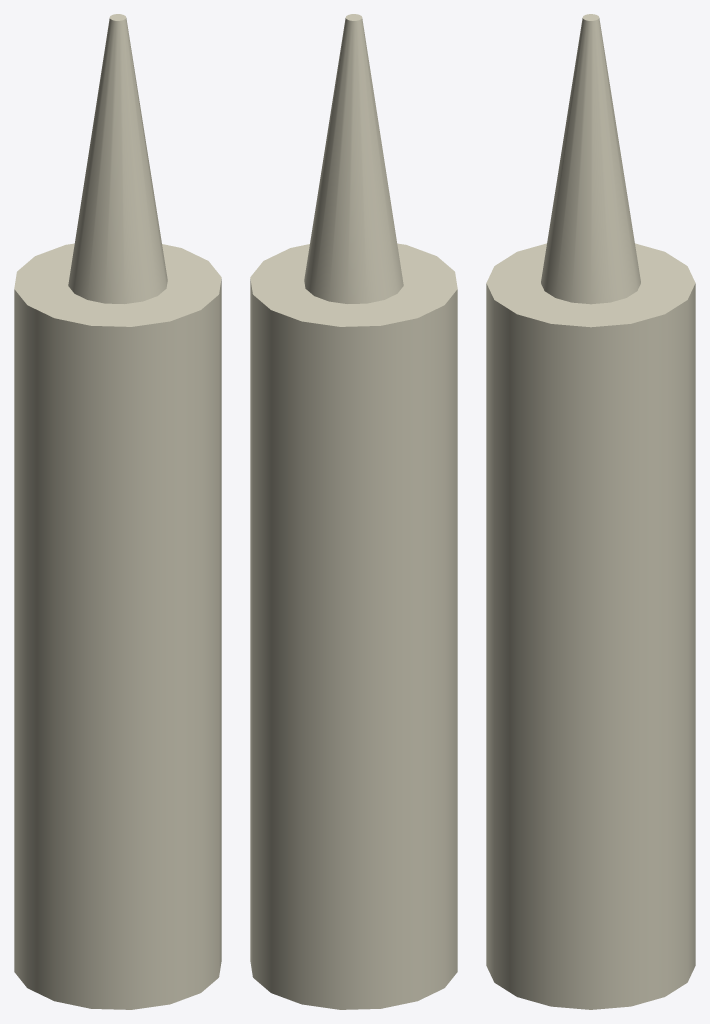
Rendered from scavengers-loot-library-sealant-cartridge-b6a2339a__2619.glb.
3 views of the same model, side by side, from view 1: azimuth 30°, elevation 25°; view 2: azimuth 150°, elevation 25°; view 3: azimuth 270°, elevation 25° (orthographic).
Parts seen in each view (by area): view 1: sealant-cartridge; view 2: sealant-cartridge; view 3: sealant-cartridge.
Boxes of the visible parts, <box> form: sealant-cartridge: <box>14,14,221,1009</box>; sealant-cartridge: <box>250,14,457,1009</box>; sealant-cartridge: <box>486,14,695,1009</box>.
Bounding box in the file's own units: 0.05 × 0.25 × 0.05.
